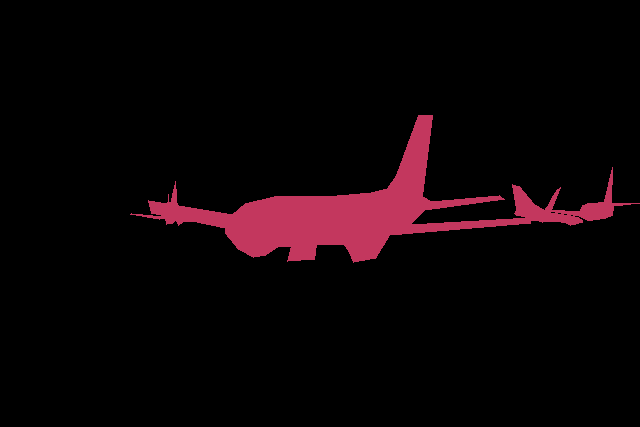Airplane: (148, 115, 530, 263), (549, 167, 640, 220), (130, 181, 207, 225), (531, 187, 583, 225), (512, 184, 545, 218)
